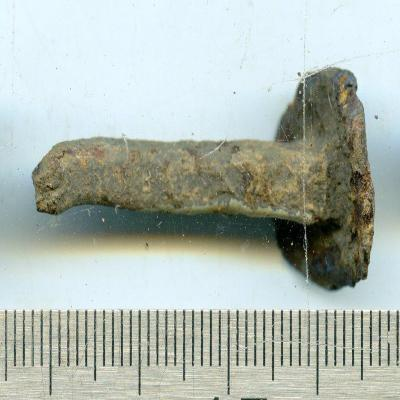archeology: (32, 67, 376, 293)
